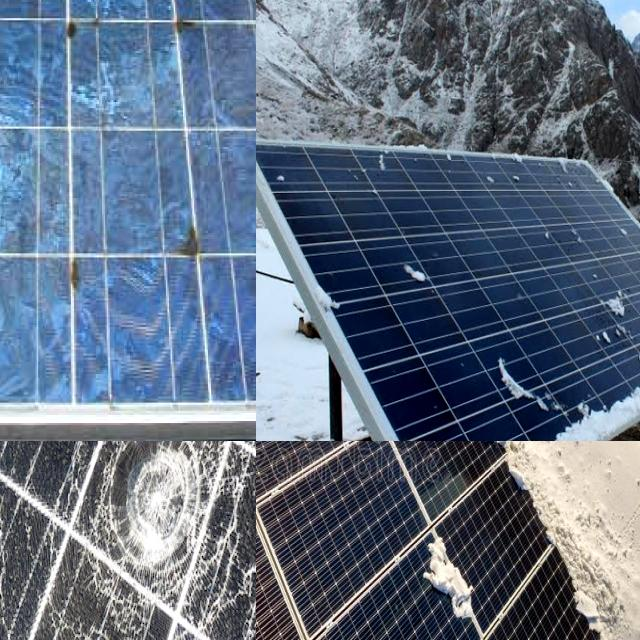hotspot: (86, 441, 228, 613)
panel: (508, 464, 600, 581), (431, 441, 541, 530), (410, 498, 474, 620), (256, 441, 327, 522), (594, 274, 640, 367), (494, 352, 557, 414), (572, 588, 640, 640), (256, 441, 295, 522), (384, 441, 449, 488), (314, 441, 384, 481), (256, 549, 287, 633), (390, 254, 450, 292), (565, 385, 618, 427), (477, 164, 538, 198), (528, 226, 605, 250), (364, 162, 422, 187), (550, 159, 590, 192), (270, 166, 318, 186), (621, 209, 640, 244), (624, 376, 640, 412), (256, 441, 263, 479)
shadow: (148, 202, 244, 292), (162, 4, 238, 82), (46, 232, 117, 308), (37, 0, 115, 54), (149, 0, 224, 27)
